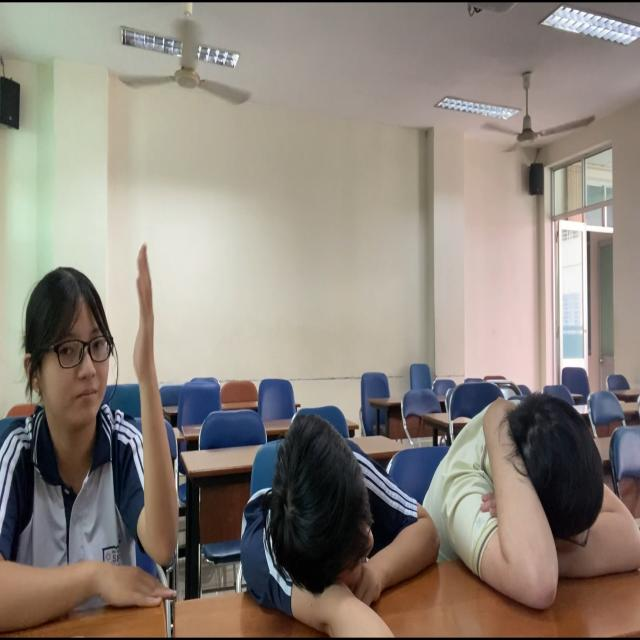raise_hand: (1, 237, 183, 640)
sleep: (439, 384, 640, 640), (225, 411, 434, 640)
